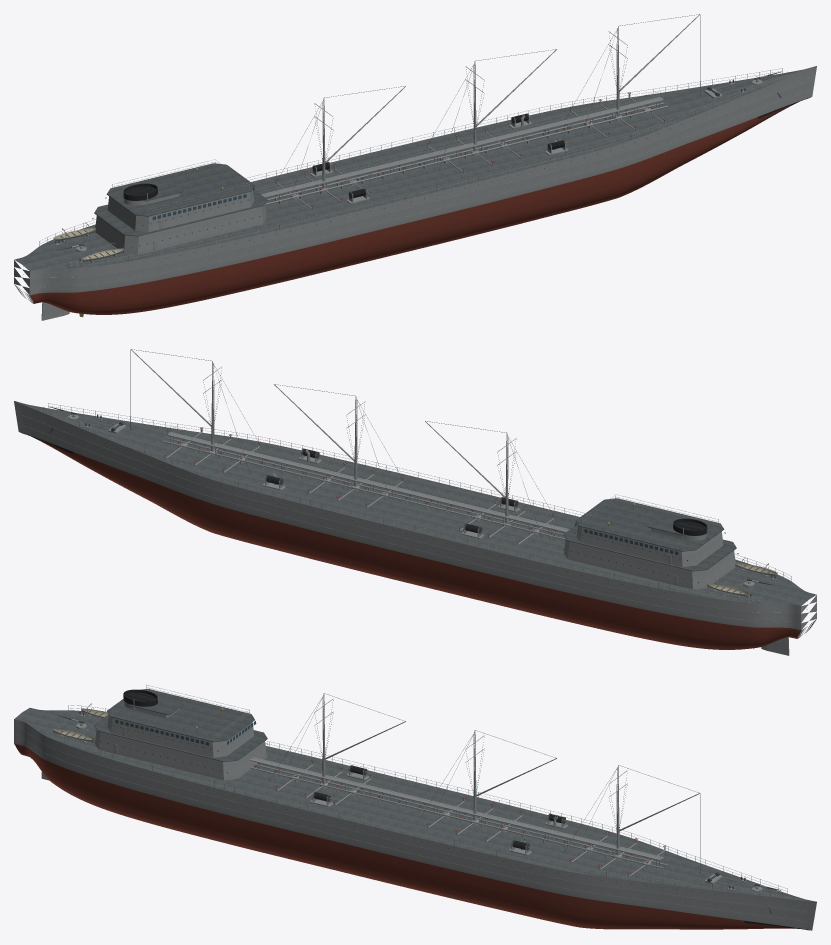
The model's file is uk_support_1942.glb.
The picture shows the model from 3 angles, top to bottom: view 1: azimuth 30°, elevation 25°; view 2: azimuth 150°, elevation 25°; view 3: azimuth 330°, elevation 25°; orthographic projection.
Visible parts, largest first — view 1: Fleet support ship · 1942; view 2: Fleet support ship · 1942; view 3: Fleet support ship · 1942.
Boxes of the visible parts, x1=… form: Fleet support ship · 1942: x1=14, y1=14, x2=816, y2=320; Fleet support ship · 1942: x1=14, y1=349, x2=816, y2=655; Fleet support ship · 1942: x1=14, y1=684, x2=816, y2=930.
Size of the model in its own units: 154 by 29.11 by 19.09.
10 materials, 9 textured.
